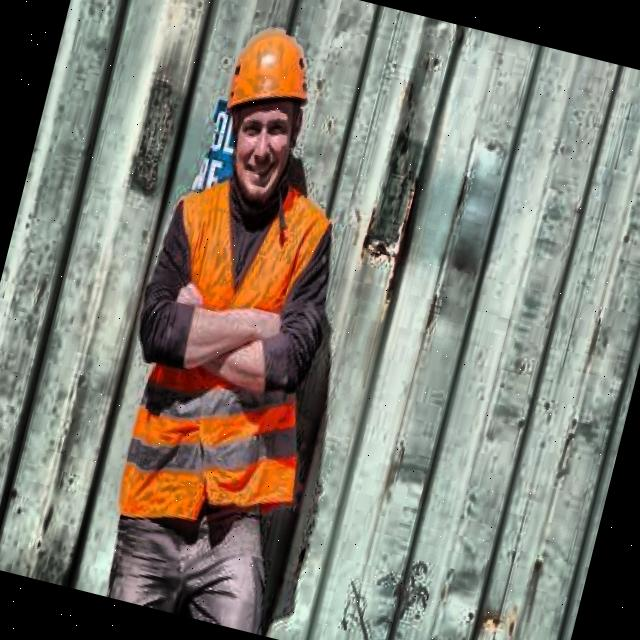helmet: (192, 0, 336, 213)
